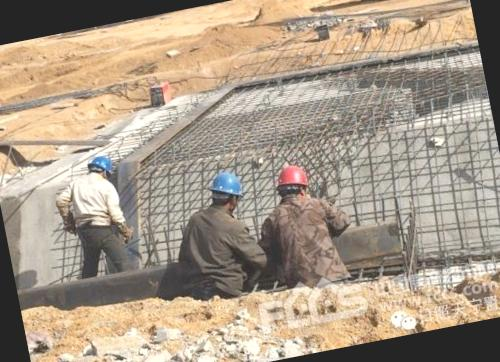helmet: (200, 168, 247, 211), (269, 162, 313, 201)
no_vest: (178, 203, 253, 297), (270, 192, 342, 286), (66, 172, 120, 231)
person: (256, 155, 361, 292), (52, 153, 138, 280)
